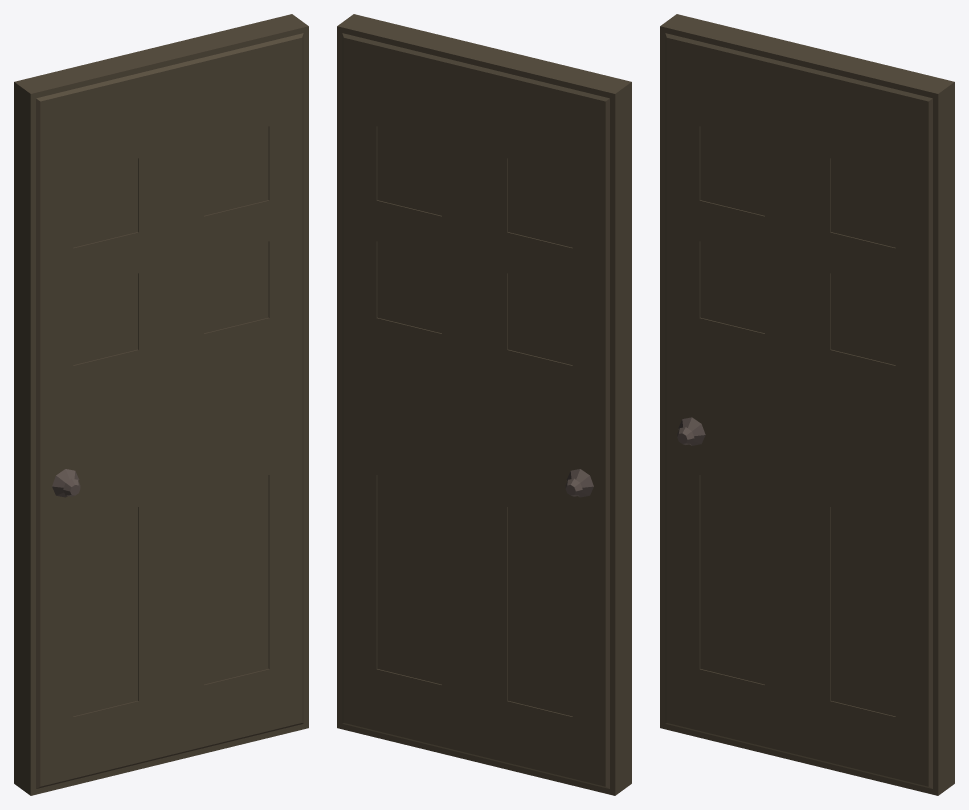
File: Door_2.glb
3 views of the same model, side by side, from view 1: azimuth 30°, elevation 25°; view 2: azimuth 150°, elevation 25°; view 3: azimuth 330°, elevation 25° (orthographic).
Visible parts, largest first — view 1: Door_2; view 2: Door_2; view 3: Door_2.
Boxes of the visible parts, x1=… form: Door_2: x1=14, y1=14, x2=308, y2=795; Door_2: x1=337, y1=14, x2=631, y2=795; Door_2: x1=660, y1=14, x2=954, y2=795.
Size of the model in its own units: 1.74 by 4.2 by 0.4211.
